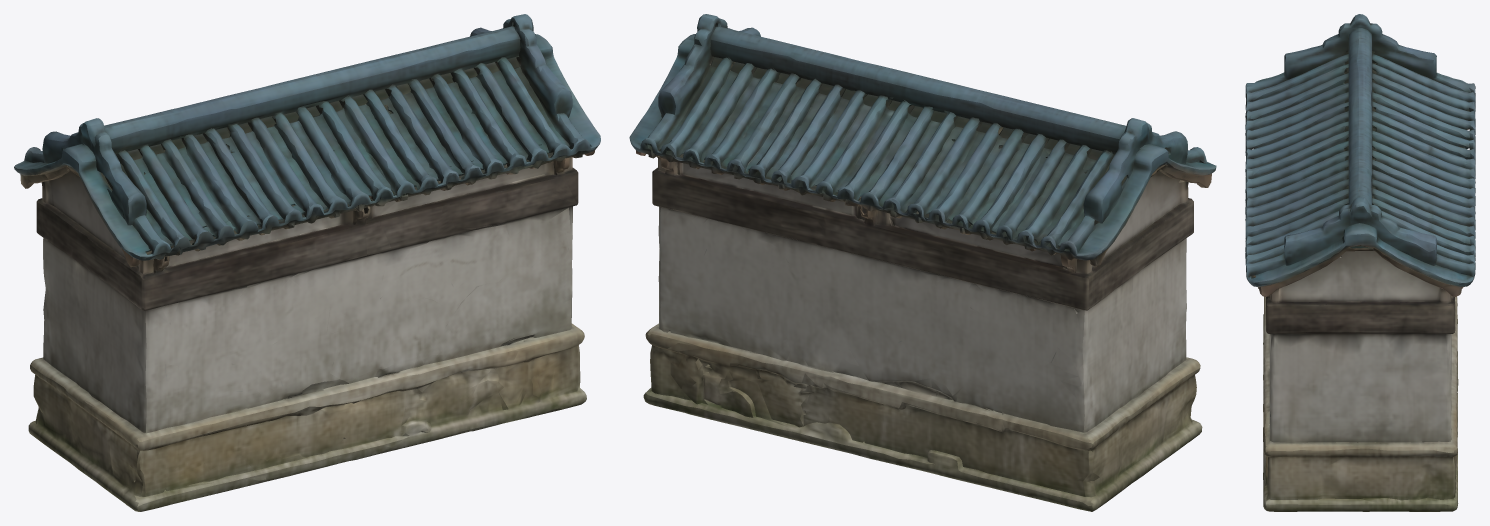
Rendered from ARCH-006.glb.
3 views of the same model, side by side, from view 1: azimuth 30°, elevation 25°; view 2: azimuth 150°, elevation 25°; view 3: azimuth 270°, elevation 25° (orthographic). The views are drawn at different scales.
Visible parts, largest first — view 1: world; view 2: world; view 3: world.
Boxes of the visible parts, x1,y1,x2,y2 form: world: (14,14,600,511); world: (629,14,1216,511); world: (1245,14,1475,511).
Bounding box in the file's own units: 3 × 2.12 × 1.44.
Materials: 1 (1 with a texture image).
